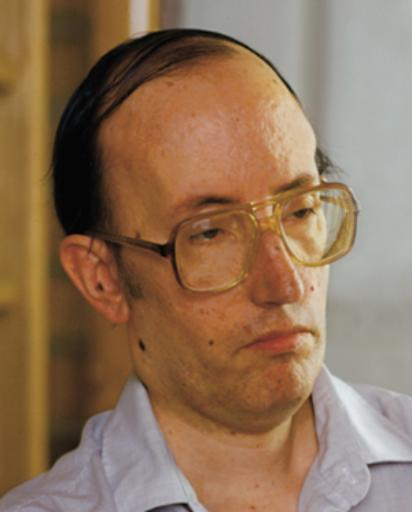left_eye: (281, 207, 326, 224)
left_lip_corner: (313, 327, 320, 340)
right_eye: (187, 228, 234, 245)
right_lip_corner: (237, 342, 248, 356)
